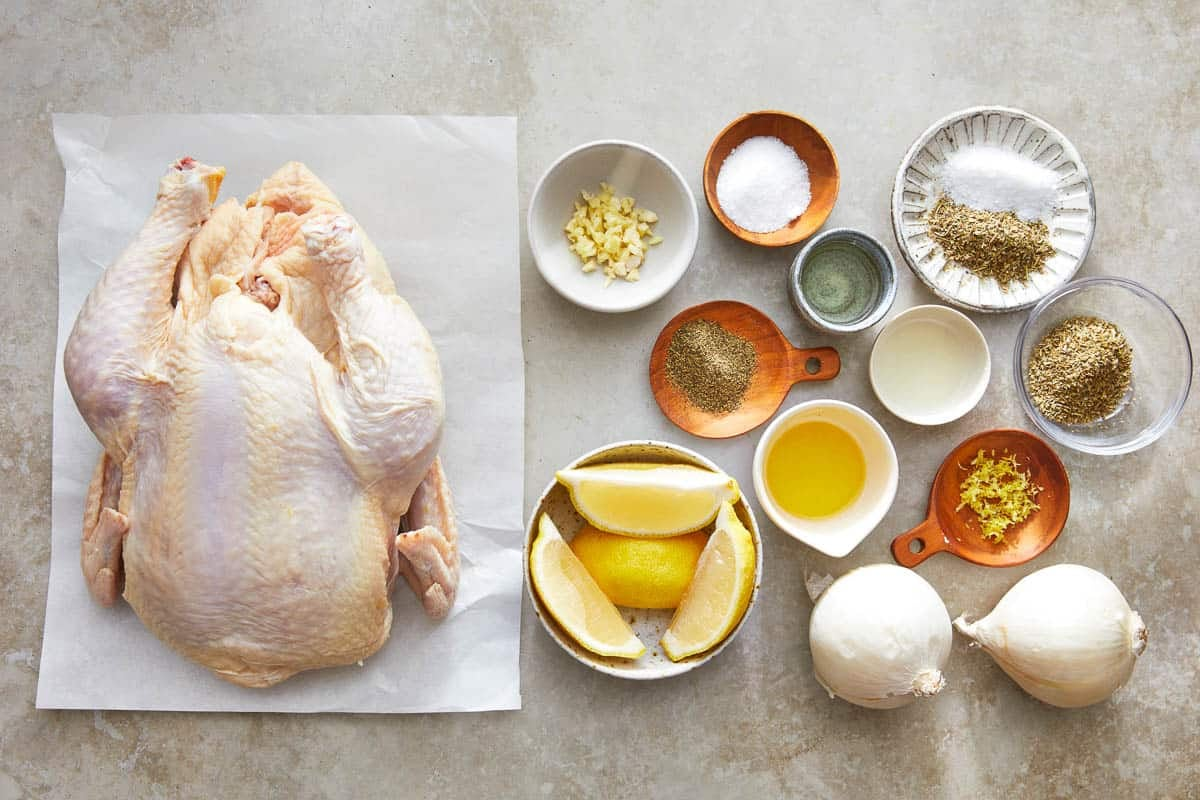Chicken: (46, 142, 476, 696)
Onion: (946, 558, 1168, 732), (792, 546, 965, 722)
